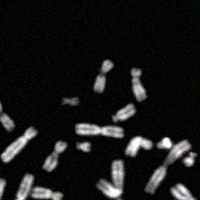chromosome: (145, 140, 190, 194), (1, 127, 37, 163), (96, 160, 123, 197), (43, 141, 66, 172), (7, 174, 34, 200), (75, 124, 124, 138), (94, 59, 114, 92), (125, 136, 152, 156), (131, 68, 146, 101), (0, 100, 15, 131), (31, 186, 62, 200), (170, 183, 195, 200), (112, 104, 135, 122), (157, 136, 172, 149), (183, 151, 196, 166), (62, 96, 80, 106), (77, 142, 91, 152), (0, 177, 6, 200), (87, 198, 125, 200), (196, 196, 200, 200)
